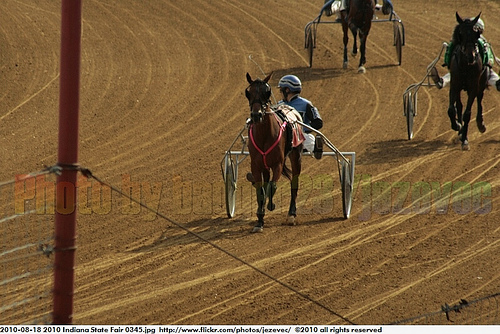horse: (243, 74, 305, 233), (445, 12, 492, 151), (336, 0, 376, 73)
